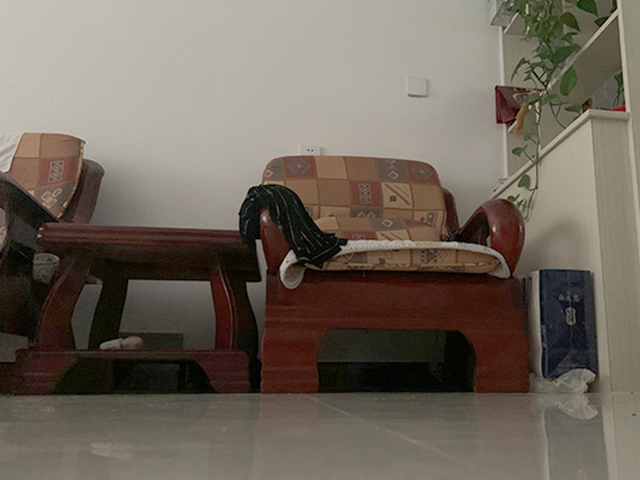cabinet: (500, 110, 640, 394)
sofa: (256, 154, 530, 396)
table: (9, 221, 264, 396)
